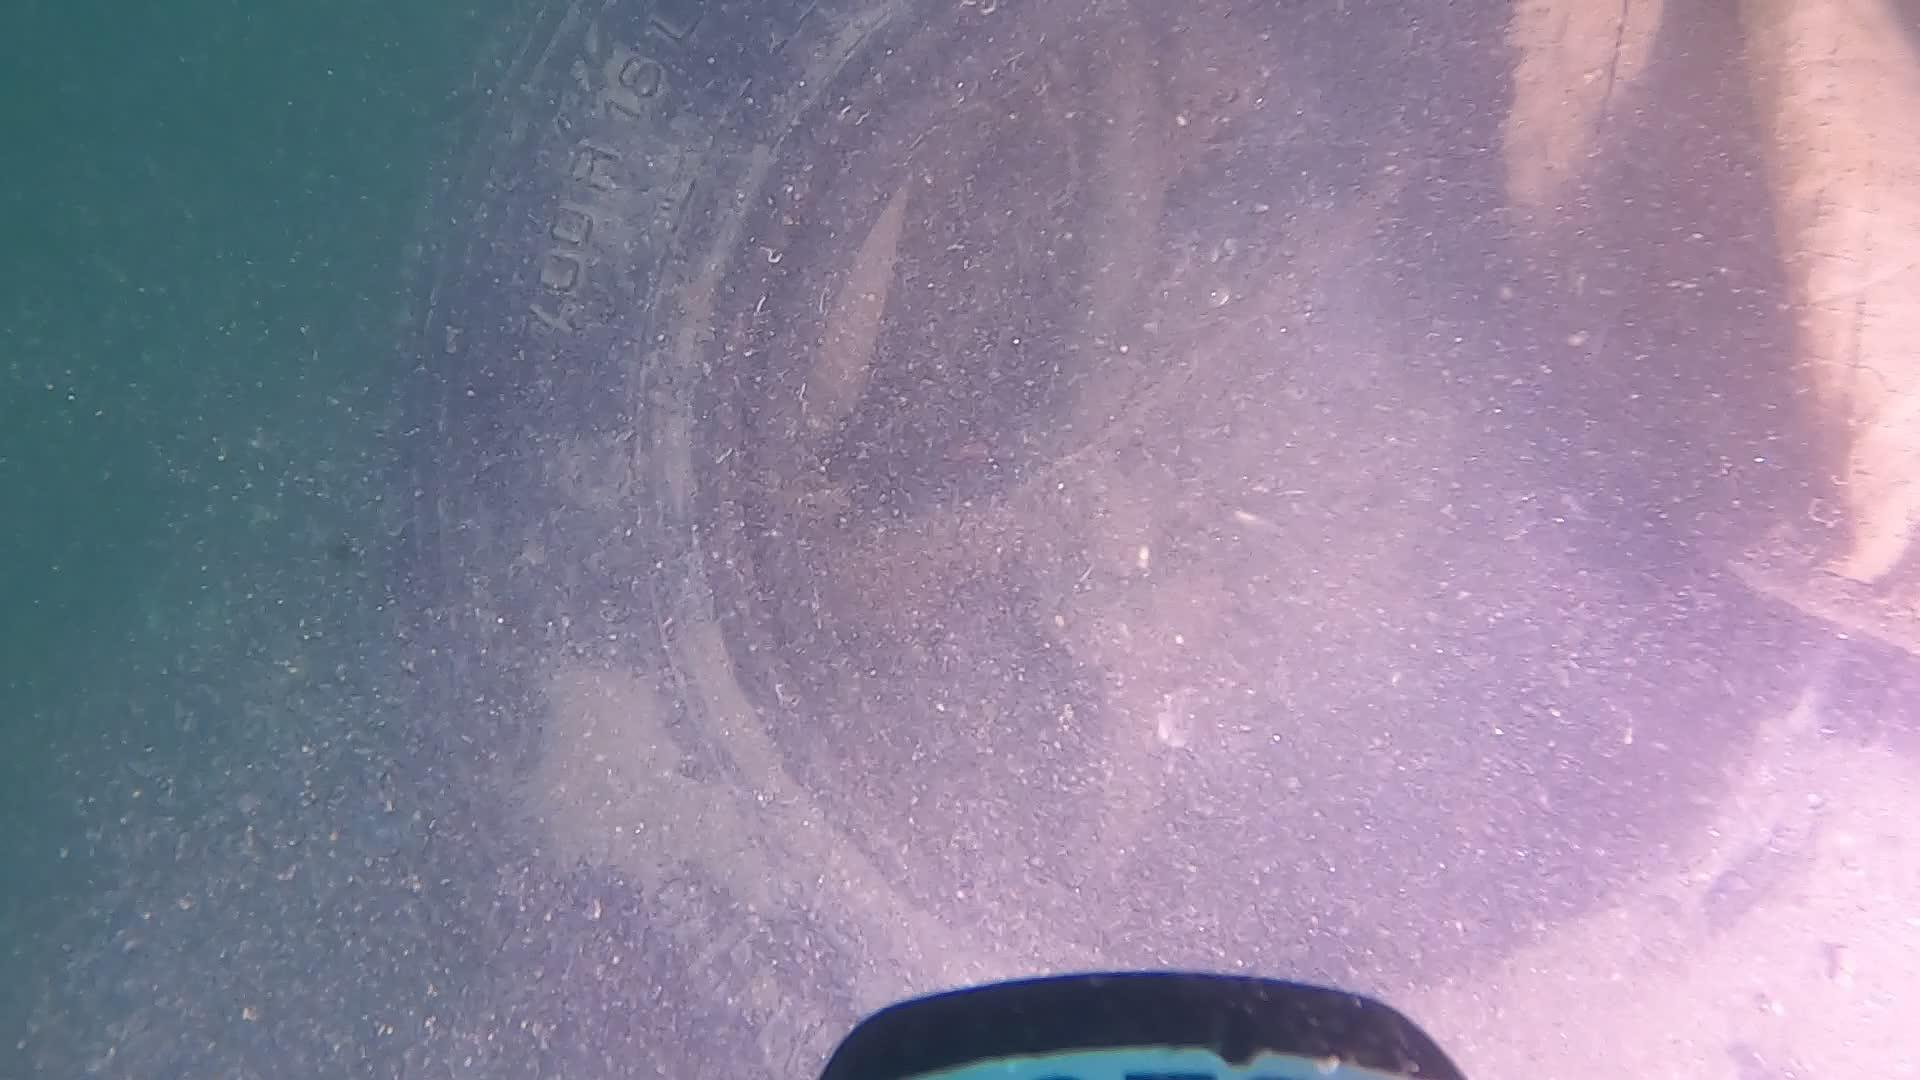tire: (376, 0, 1920, 1080)
